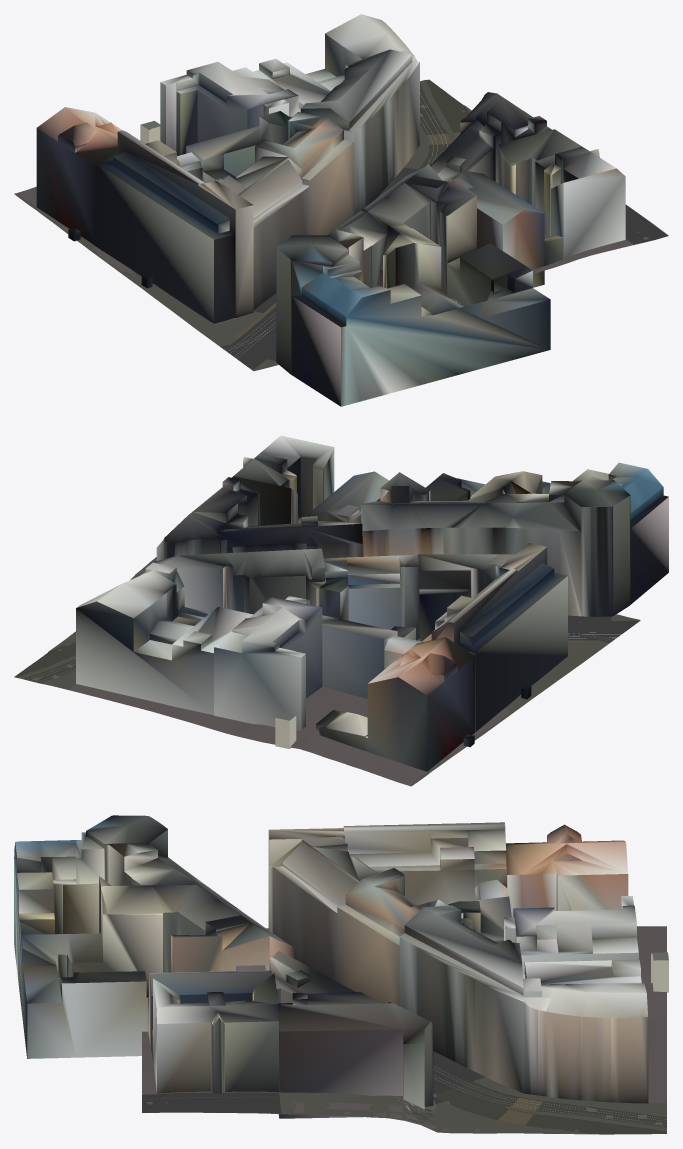
The picture shows the model from 3 angles, top to bottom: view 1: azimuth 30°, elevation 25°; view 2: azimuth 150°, elevation 25°; view 3: azimuth 270°, elevation 25°; orthographic projection. The views are drawn at different scales.
Visible parts, largest first — view 1: c_m03_m02; view 2: c_m03_m02; view 3: c_m03_m02.
Boxes of the visible parts, bbox=[...] form: c_m03_m02: bbox=[14, 14, 668, 406]; c_m03_m02: bbox=[14, 435, 668, 786]; c_m03_m02: bbox=[14, 815, 668, 1134].
Size of the model in its own units: 129 by 35.15 by 160.
